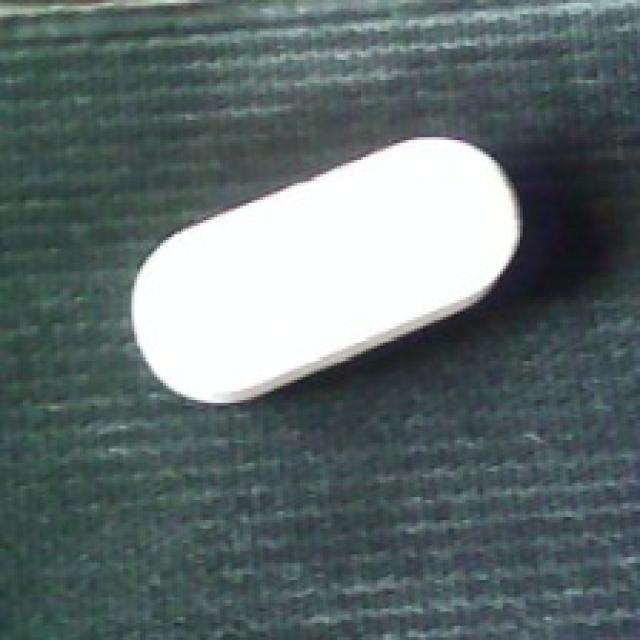no-defect: (125, 134, 526, 406)
